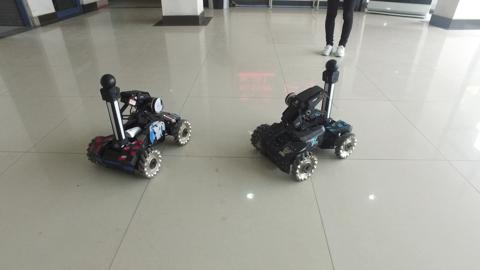chariot: (245, 58, 368, 186), (81, 72, 193, 184)
